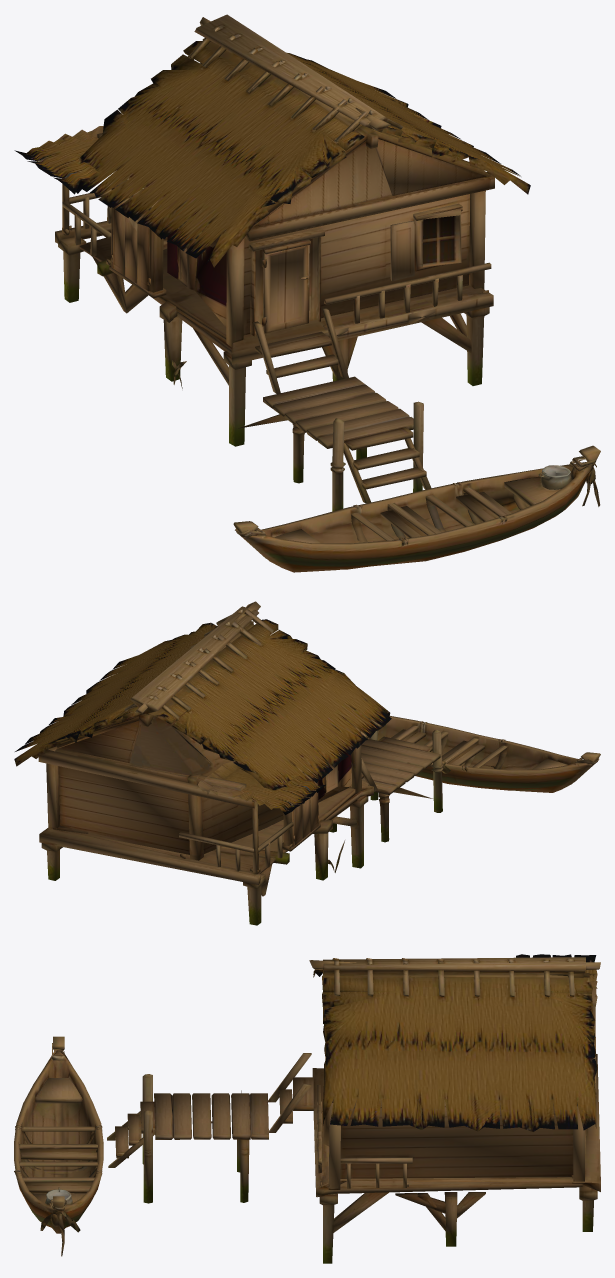
Rendered from 019e3eed-ead2-7205-a364-485fc72db3c1.glb.
3 renders of one model, top to bottom at view 1: azimuth 30°, elevation 25°; view 2: azimuth 150°, elevation 25°; view 3: azimuth 270°, elevation 25°, orthographic. The views are drawn at different scales.
Parts seen in each view (by area): view 1: tripo_node_b695bcf4-3af9-4963-bd75-dd9096c1ceea; view 2: tripo_node_b695bcf4-3af9-4963-bd75-dd9096c1ceea; view 3: tripo_node_b695bcf4-3af9-4963-bd75-dd9096c1ceea.
Boxes of the visible parts, <box> form: tripo_node_b695bcf4-3af9-4963-bd75-dd9096c1ceea: <box>14,14,600,572</box>; tripo_node_b695bcf4-3af9-4963-bd75-dd9096c1ceea: <box>14,601,600,925</box>; tripo_node_b695bcf4-3af9-4963-bd75-dd9096c1ceea: <box>14,954,600,1263</box>.
Size of the model in its own units: 0.7832 by 0.5059 by 0.998.
1 material, 1 textured.
